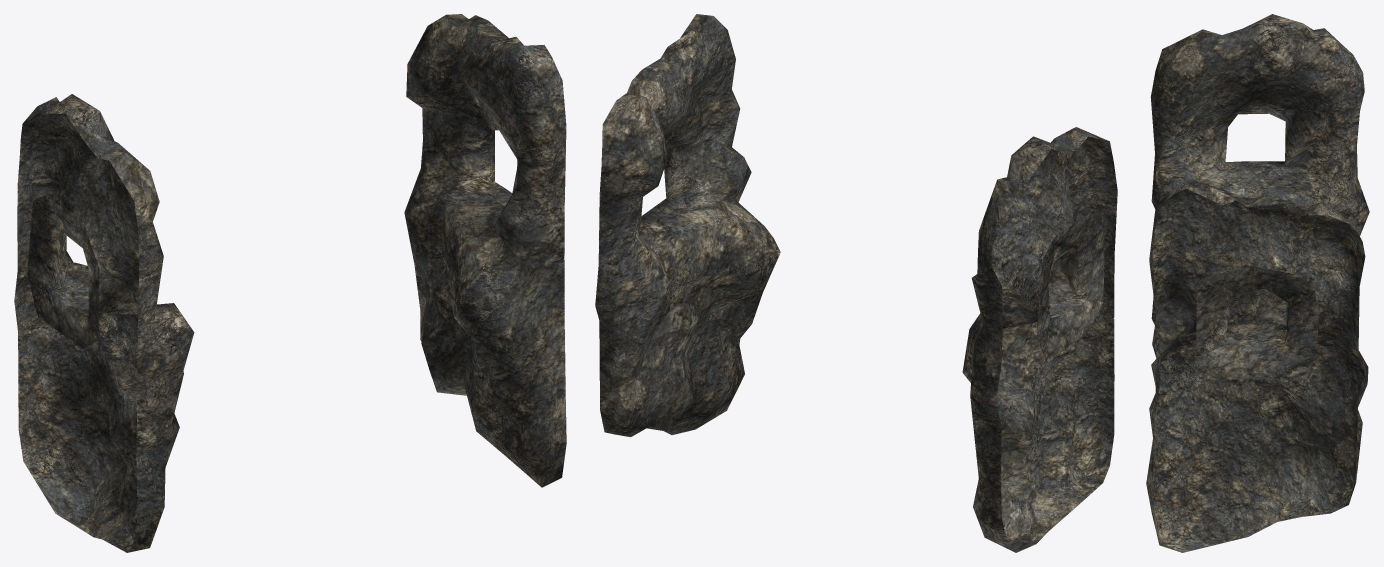
Rendered from Module18_LOD1.fbx.
3 views of the same model, side by side, from view 1: azimuth 30°, elevation 25°; view 2: azimuth 150°, elevation 25°; view 3: azimuth 270°, elevation 25° (orthographic). The views are drawn at different scales.
Parts seen in each view (by area): view 1: cave_el18A_1000_Group9066; view 2: cave_el18A_1000_Group9066; view 3: cave_el18A_1000_Group9066.
Boxes of the visible parts, x1,y1,x2,y2 form: cave_el18A_1000_Group9066: (14,14,566,552); cave_el18A_1000_Group9066: (595,14,1117,552); cave_el18A_1000_Group9066: (1146,14,1369,552).
Size of the model in its own units: 30.52 by 27.8 by 15.37.
